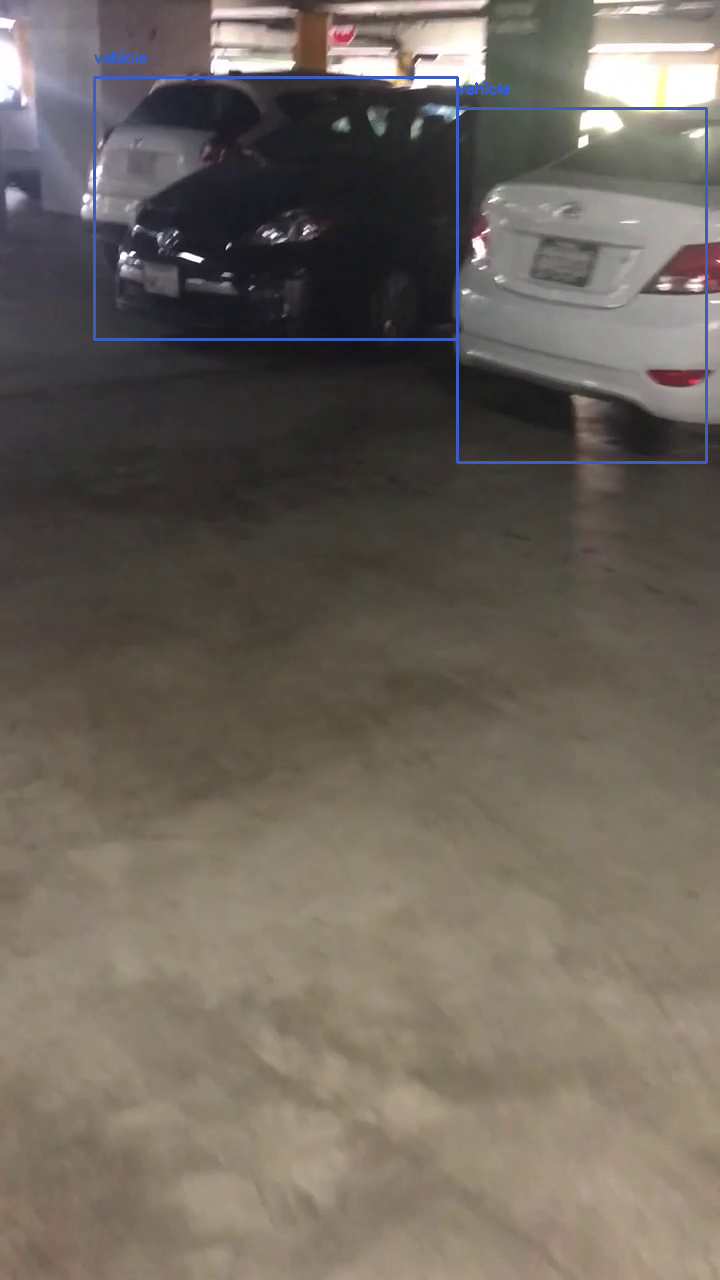vehicle: (94, 77, 457, 339), (457, 108, 706, 462)
